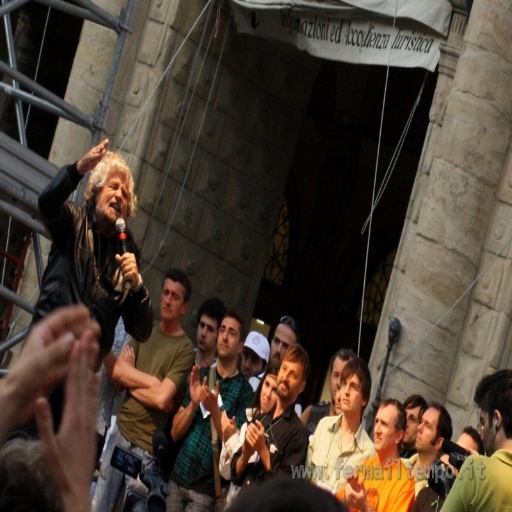hand: (33, 327, 101, 501), (10, 302, 101, 422), (77, 136, 110, 174), (343, 473, 367, 510), (114, 252, 139, 287), (188, 366, 208, 405), (197, 378, 219, 412), (245, 417, 265, 453), (218, 406, 236, 442), (346, 465, 368, 488), (121, 343, 136, 369), (239, 439, 254, 459), (161, 397, 175, 414)
